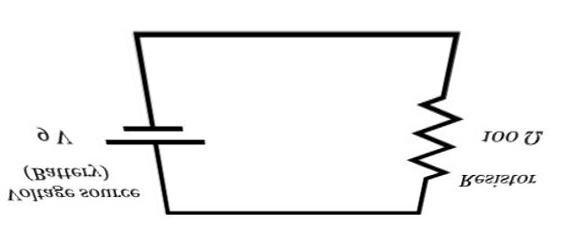resistor: (396, 68, 462, 190)
